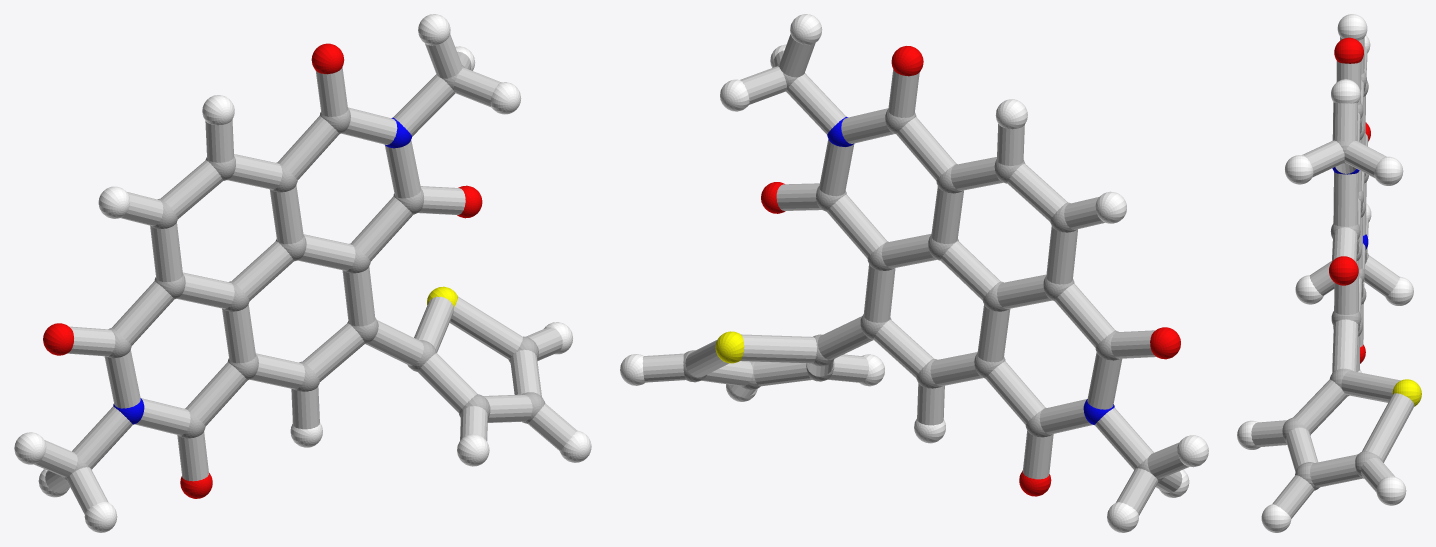
The model's file is Dimethyl_Naphthalene_Dicarboximide_Phi_10_Theta_120_Thiophene.glb.
3 renders of one model, left to right at view 1: azimuth 30°, elevation 25°; view 2: azimuth 150°, elevation 25°; view 3: azimuth 270°, elevation 25°, orthographic. The views are drawn at different scales.
Parts seen in each view (by area): view 1: grp14119, grp7241, grp1, grp12309, grp11585; view 2: grp14119, grp7241, grp1, grp12309, grp13757, grp11585; view 3: grp14119, grp7241, grp1, grp12309, grp13757.
Boxes of the visible parts, x1,y1,x2,y2 form: grp14119: [34, 34, 577, 514]; grp7241: [14, 14, 591, 532]; grp1: [62, 65, 545, 480]; grp12309: [43, 43, 482, 498]; grp11585: [113, 117, 411, 424]; grp14119: [642, 34, 1188, 515]; grp7241: [620, 14, 1208, 532]; grp1: [683, 64, 1163, 482]; grp12309: [761, 46, 1180, 496]; grp13757: [715, 331, 744, 363]; grp11585: [827, 116, 1114, 425]; grp14119: [1251, 37, 1414, 518]; grp7241: [1237, 14, 1413, 532]; grp1: [1282, 71, 1383, 490]; grp12309: [1329, 37, 1370, 363]; grp13757: [1392, 379, 1421, 406].
Bounding box in the file's own units: 12.19 × 9.01 × 3.72.
